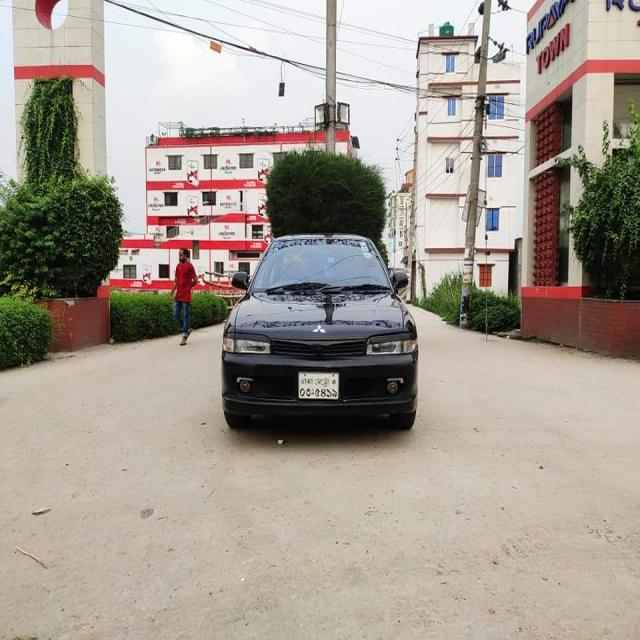black: (215, 229, 442, 447)
